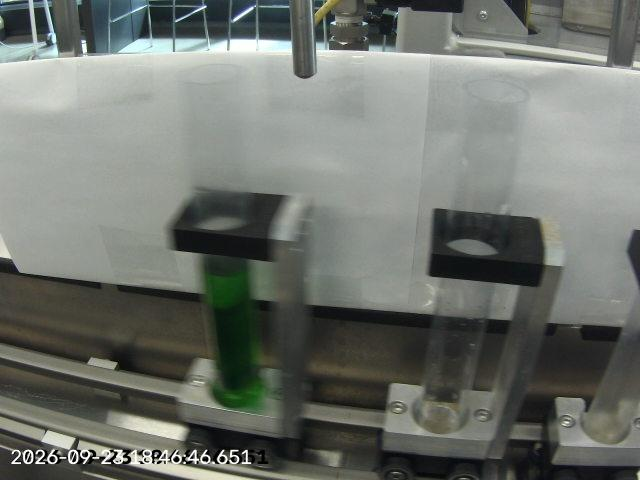vial: (407, 57, 539, 436), (167, 58, 283, 411)
